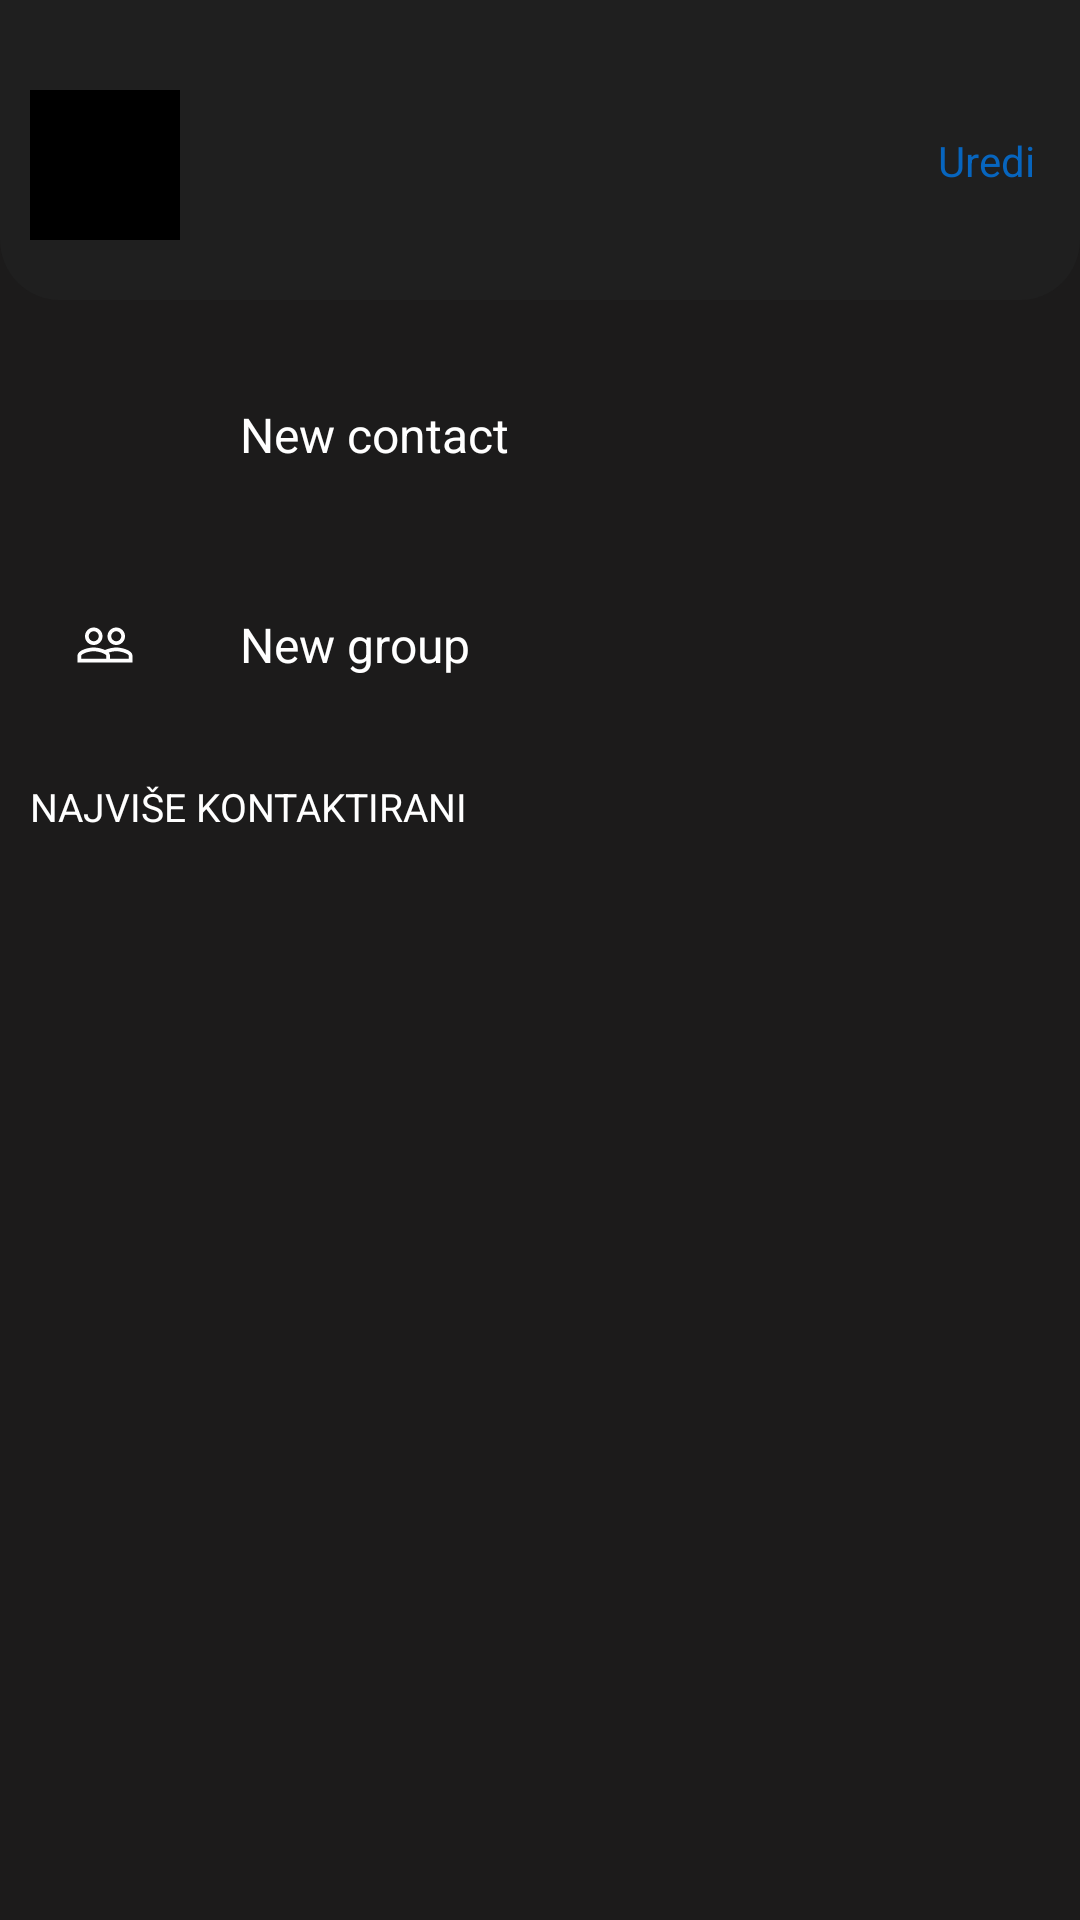

Where to tap for icons on this 1080×1920 app screen, as [x,y]:
people: [105,645]
